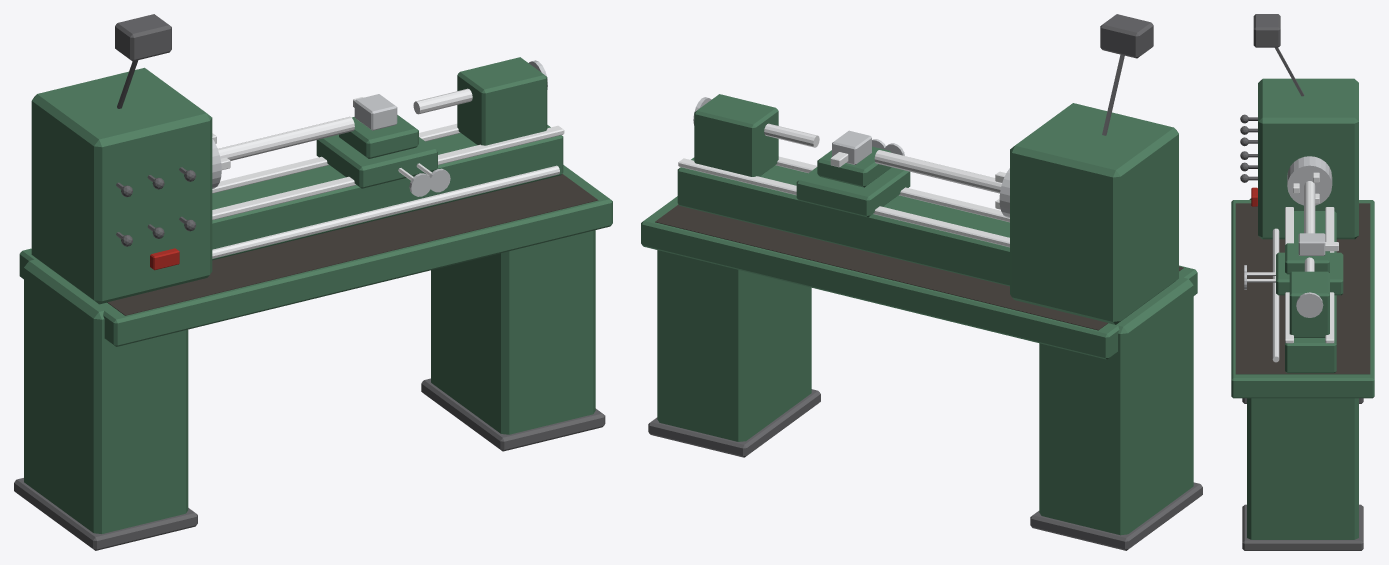
The model's file is torno_mecanico.glb.
3 renders of one model, left to right at view 1: azimuth 30°, elevation 25°; view 2: azimuth 150°, elevation 25°; view 3: azimuth 270°, elevation 25°, orthographic. The views are drawn at different scales.
Visible parts, largest first — view 1: torno_mecanico_verde_maquina, torno_mecanico_graxa, torno_mecanico_aco_polido, torno_mecanico_esmalte_escuro, torno_mecanico_aco; view 2: torno_mecanico_verde_maquina, torno_mecanico_graxa, torno_mecanico_esmalte_escuro, torno_mecanico_aco_polido, torno_mecanico_aco; view 3: torno_mecanico_verde_maquina, torno_mecanico_graxa, torno_mecanico_esmalte_escuro, torno_mecanico_aco_polido, torno_mecanico_aco.
Part boxes in pixels (x1=…): torno_mecanico_verde_maquina: x1=19, y1=57, x2=612, y2=533; torno_mecanico_graxa: x1=107, y1=174, x2=598, y2=315; torno_mecanico_aco_polido: x1=212, y1=88, x2=564, y2=258; torno_mecanico_esmalte_escuro: x1=14, y1=14, x2=605, y2=550; torno_mecanico_aco: x1=212, y1=60, x2=547, y2=196; torno_mecanico_verde_maquina: x1=641, y1=94, x2=1197, y2=535; torno_mecanico_graxa: x1=655, y1=204, x2=1183, y2=330; torno_mecanico_esmalte_escuro: x1=648, y1=14, x2=1202, y2=550; torno_mecanico_aco_polido: x1=678, y1=123, x2=1009, y2=247; torno_mecanico_aco: x1=693, y1=97, x2=1009, y2=217; torno_mecanico_verde_maquina: x1=1231, y1=78, x2=1374, y2=539; torno_mecanico_graxa: x1=1235, y1=203, x2=1370, y2=374; torno_mecanico_esmalte_escuro: x1=1240, y1=14, x2=1363, y2=550; torno_mecanico_aco_polido: x1=1247, y1=172, x2=1338, y2=362; torno_mecanico_aco: x1=1244, y1=156, x2=1332, y2=317.
Size of the model in its own units: 1.95 by 1.82 by 0.64.
